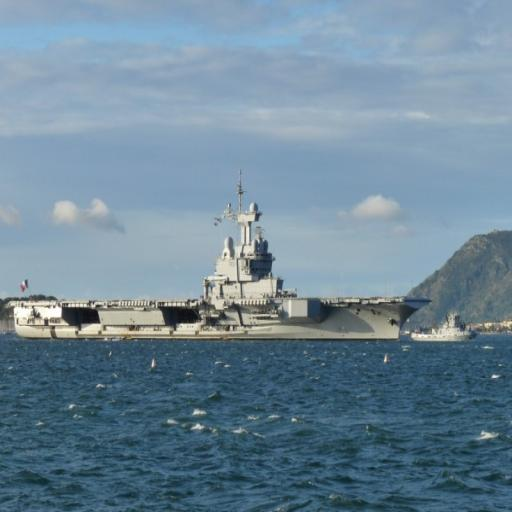Portanaves: (4, 168, 434, 348)
